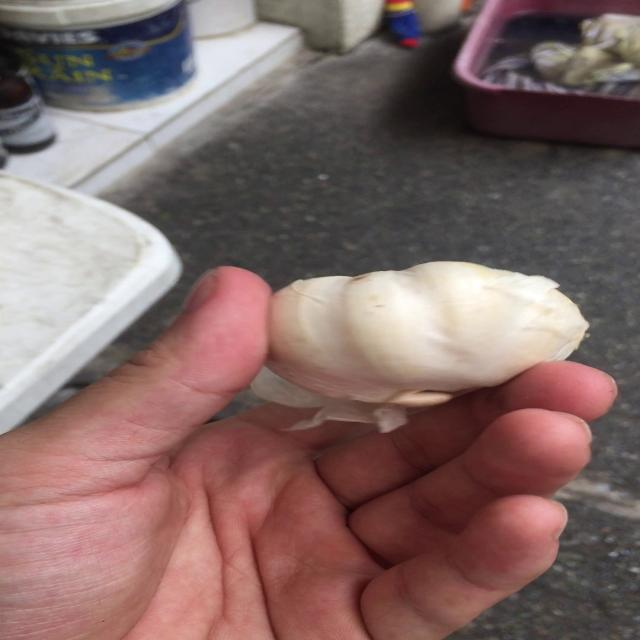garlic: (263, 256, 593, 416)
